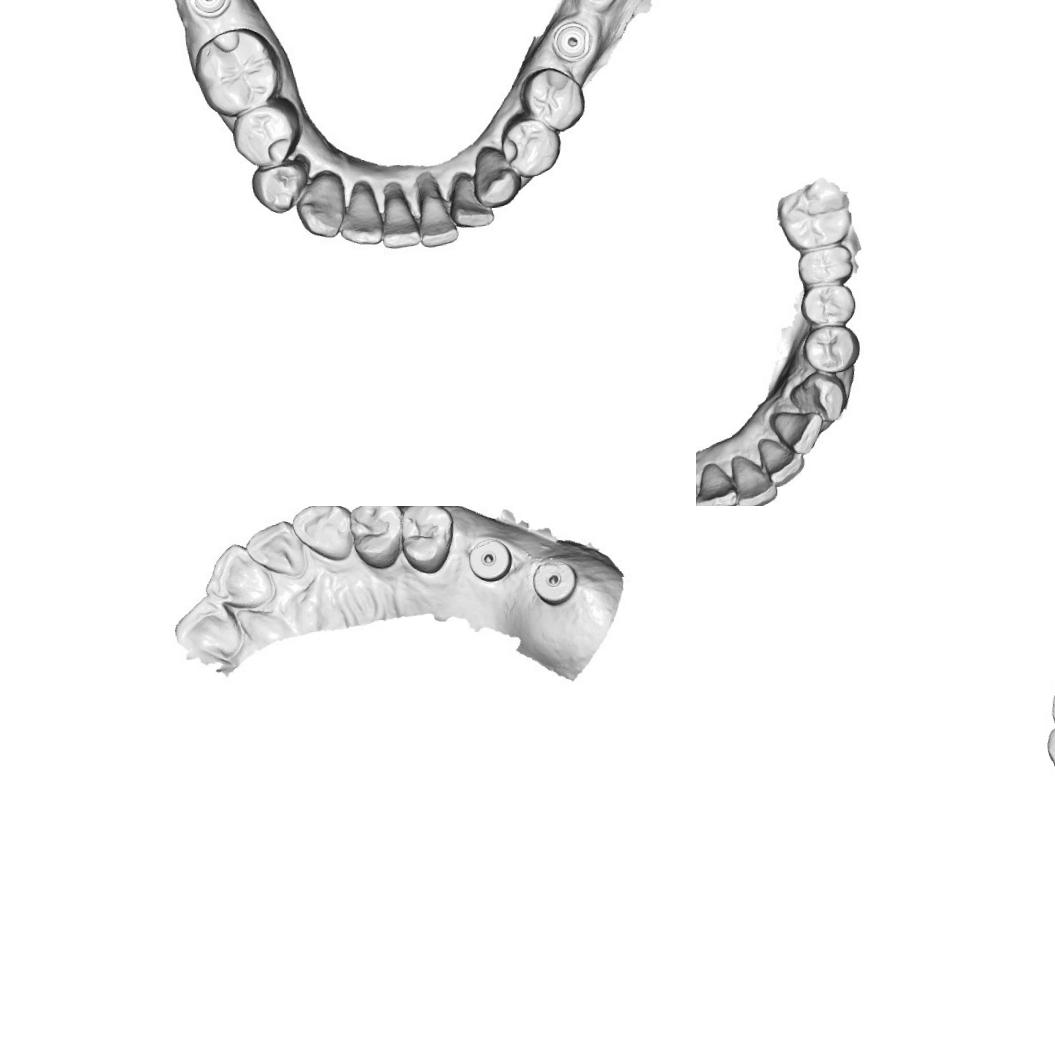canine: (294, 166, 350, 241), (288, 506, 357, 565), (469, 144, 522, 212), (790, 374, 846, 424)
implant: (546, 15, 599, 72), (528, 554, 581, 610), (466, 534, 512, 585), (180, 0, 234, 24)
incisor: (169, 594, 252, 665), (200, 538, 276, 614), (240, 517, 308, 583), (412, 170, 460, 250), (444, 165, 495, 235), (336, 181, 382, 249), (378, 182, 422, 250), (756, 434, 809, 488), (728, 453, 780, 506), (772, 409, 822, 454), (696, 461, 739, 506)
molar: (192, 23, 284, 119), (782, 182, 850, 246)
premolar: (515, 62, 588, 136), (228, 101, 300, 172), (498, 114, 566, 180), (395, 506, 457, 577), (247, 155, 312, 217), (345, 506, 403, 573), (807, 324, 858, 373), (802, 284, 856, 329), (799, 242, 852, 286)
